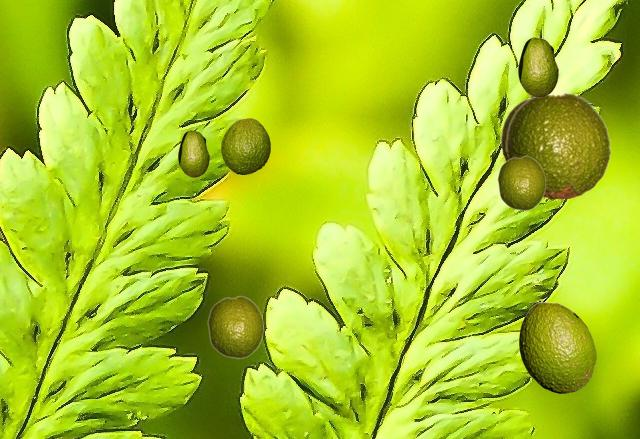avocado: (505, 92, 611, 199), (519, 302, 595, 392), (207, 295, 263, 358), (497, 155, 545, 210), (221, 118, 269, 173), (518, 37, 557, 96), (500, 98, 527, 161), (178, 130, 208, 176)
